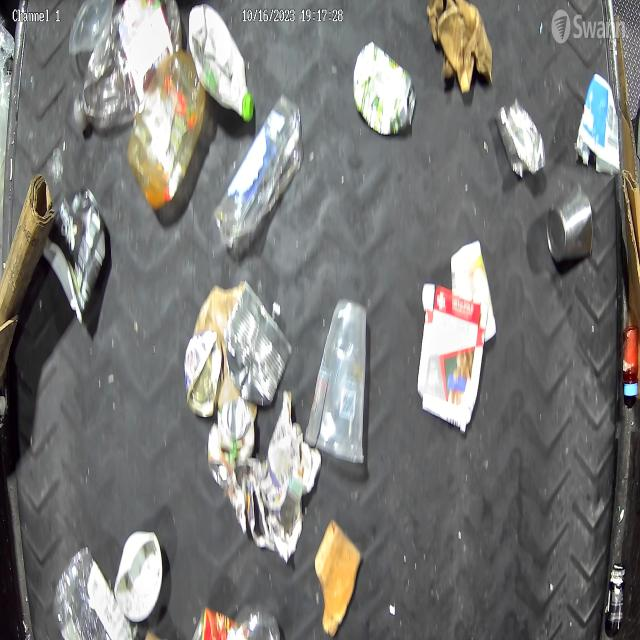can: (226, 286, 292, 409), (352, 43, 418, 138), (495, 96, 545, 180), (544, 188, 596, 264), (183, 328, 223, 421), (190, 604, 238, 640)
milk_jug: (188, 2, 256, 124)
plastic_bottle: (71, 0, 183, 133), (52, 543, 134, 640)
